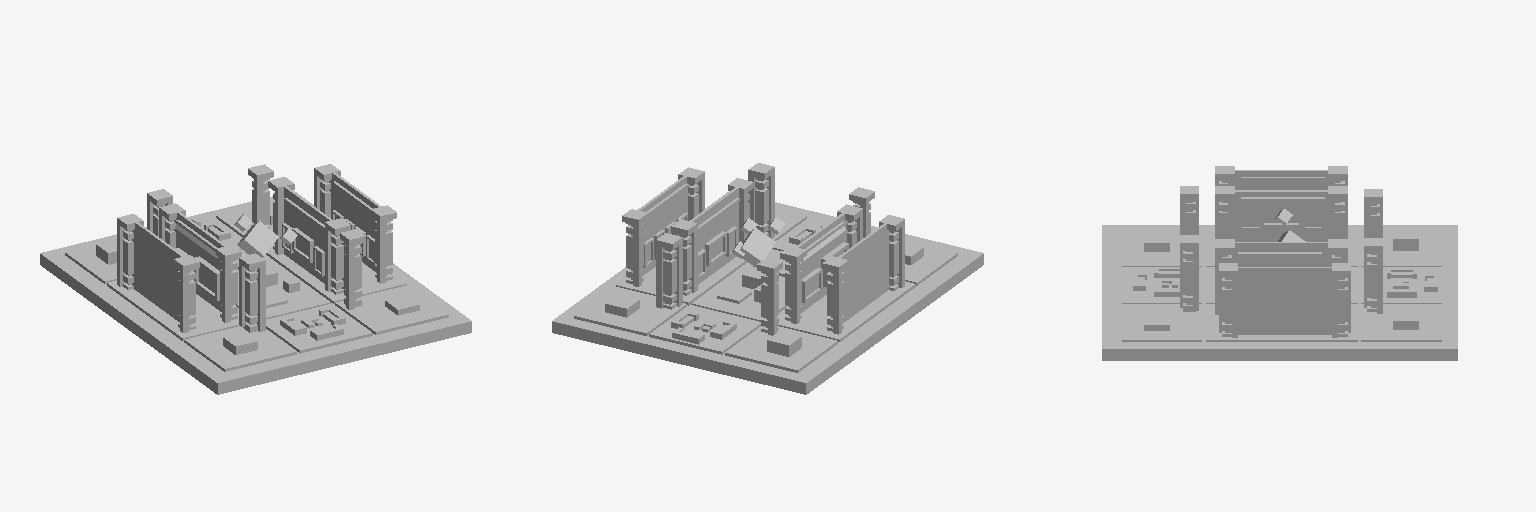
File: square.obj
The picture shows the model from 3 angles: view 1: azimuth 30°, elevation 25°; view 2: azimuth 150°, elevation 25°; view 3: azimuth 270°, elevation 25°; orthographic projection.
Visible parts, largest first — view 1: group[number redacted], group[number redacted], group[number redacted], group[number redacted], group[number redacted], group[number redacted], group[number redacted], group[number redacted], group[number redacted], group[number redacted], group[number redacted], group[number redacted] (+1 smaller); view 2: group[number redacted], group[number redacted], group[number redacted], group[number redacted], group[number redacted], group[number redacted], group[number redacted], group[number redacted], group[number redacted], group[number redacted], group[number redacted], group[number redacted] (+1 smaller); view 3: group[number redacted], group[number redacted], group[number redacted], group[number redacted], group[number redacted], group[number redacted], group[number redacted], group[number redacted], group[number redacted], group[number redacted], group[number redacted], group[number redacted] (+1 smaller).
Boxes of the visible parts, x1=… form: group[number redacted]: x1=65, y1=201, x2=448, y2=371; group[number redacted]: x1=40, y1=191, x2=471, y2=394; group[number redacted]: x1=117, y1=214, x2=199, y2=332; group[number redacted]: x1=268, y1=177, x2=350, y2=294; group[number redacted]: x1=314, y1=164, x2=396, y2=283; group[number redacted]: x1=239, y1=229, x2=365, y2=332; group[number redacted]: x1=159, y1=203, x2=241, y2=322; group[number redacted]: x1=147, y1=164, x2=273, y2=236; group[number redacted]: x1=280, y1=307, x2=345, y2=340; group[number redacted]: x1=223, y1=295, x2=419, y2=354; group[number redacted]: x1=282, y1=223, x2=324, y2=276; group[number redacted]: x1=237, y1=220, x2=278, y2=257; group[number redacted]: x1=574, y1=209, x2=957, y2=372; group[number redacted]: x1=552, y1=191, x2=983, y2=394; group[number redacted]: x1=822, y1=215, x2=904, y2=334; group[number redacted]: x1=622, y1=167, x2=704, y2=286; group[number redacted]: x1=671, y1=178, x2=753, y2=295; group[number redacted]: x1=656, y1=233, x2=782, y2=335; group[number redacted]: x1=780, y1=204, x2=862, y2=323; group[number redacted]: x1=748, y1=163, x2=874, y2=238; group[number redacted]: x1=605, y1=294, x2=801, y2=356; group[number redacted]: x1=671, y1=311, x2=736, y2=344; group[number redacted]: x1=698, y1=226, x2=736, y2=278; group[number redacted]: x1=802, y1=242, x2=848, y2=302; group[number redacted]: x1=1122, y1=230, x2=1441, y2=341; group[number redacted]: x1=1102, y1=225, x2=1457, y2=360; group[number redacted]: x1=1219, y1=263, x2=1350, y2=337; group[number redacted]: x1=1215, y1=186, x2=1347, y2=241; group[number redacted]: x1=1215, y1=239, x2=1347, y2=314; group[number redacted]: x1=1180, y1=186, x2=1198, y2=311; group[number redacted]: x1=1364, y1=189, x2=1382, y2=313; group[number redacted]: x1=1215, y1=166, x2=1347, y2=189; group[number redacted]: x1=1393, y1=228, x2=1418, y2=329; group[number redacted]: x1=1242, y1=223, x2=1321, y2=241; group[number redacted]: x1=1387, y1=268, x2=1437, y2=297; group[number redacted]: x1=1144, y1=232, x2=1169, y2=330.
Size of the model in its own units: 0.91 by 0.2926 by 1.1.